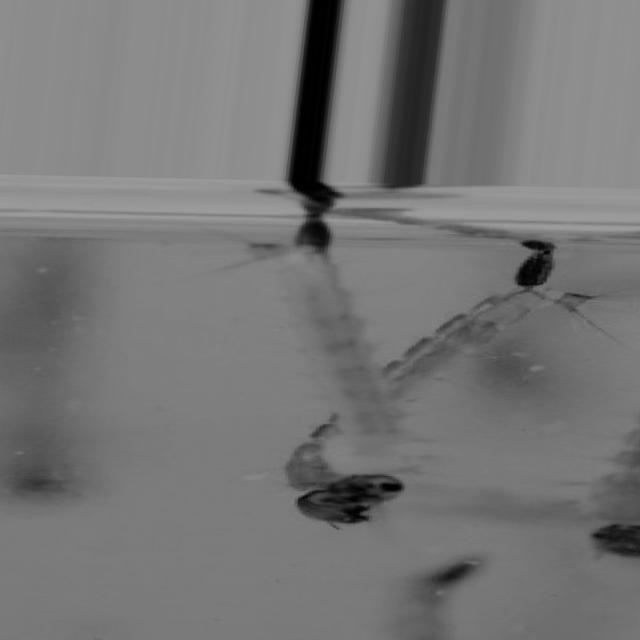larvas: (262, 214, 430, 525), (385, 238, 574, 422), (422, 473, 588, 537), (404, 553, 474, 640), (600, 416, 640, 557)
